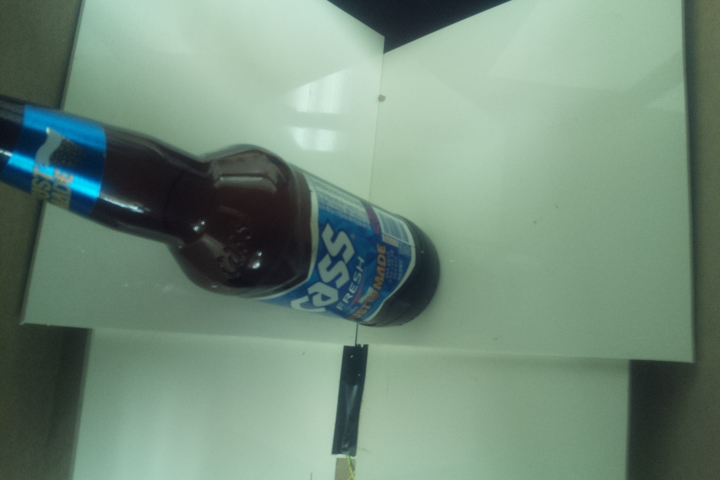makju: (1, 89, 442, 328)
